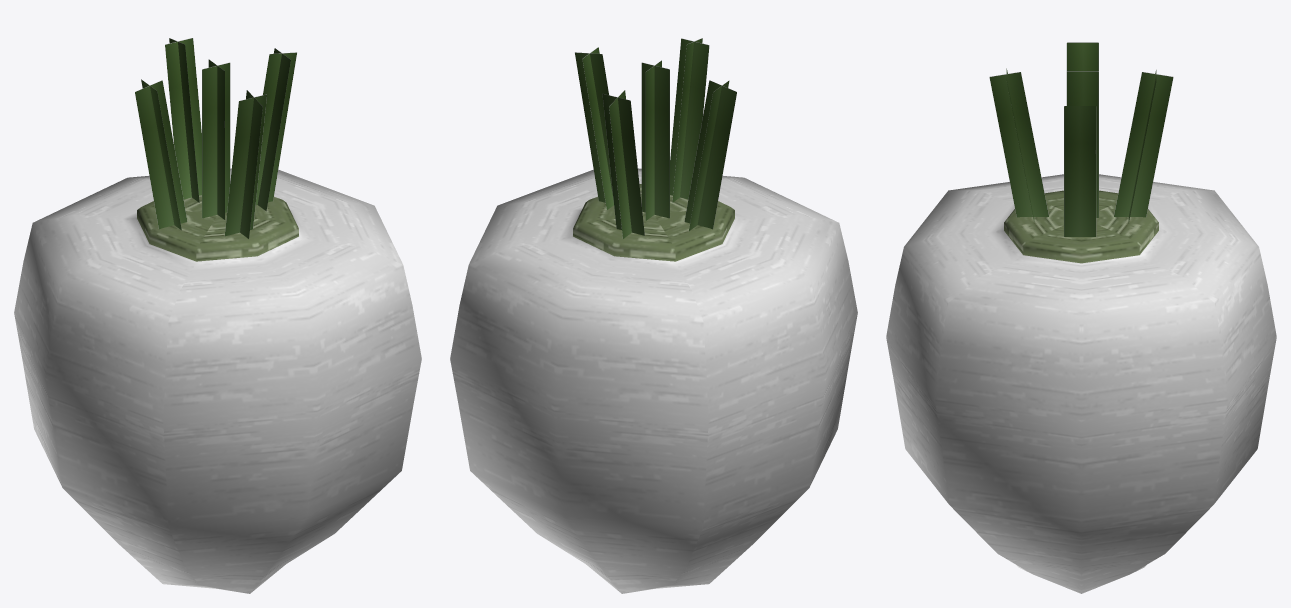
Rendered from kabu.fbx.
The picture shows the model from 3 angles, left to right: view 1: azimuth 30°, elevation 25°; view 2: azimuth 150°, elevation 25°; view 3: azimuth 270°, elevation 25°; orthographic projection.
Visible parts, largest first — view 1: Cube, Plane_009; view 2: Cube, Plane_009; view 3: Cube, Plane_009.
Boxes of the visible parts, x1,y1,x2,y2 form: Cube: (14,168,421,593); Plane_009: (135,38,296,238); Cube: (450,168,857,593); Plane_009: (575,38,736,238); Cube: (886,174,1276,593); Plane_009: (989,42,1173,236).
Bounding box in the file's own units: 1.01 × 1.52 × 1.01.
